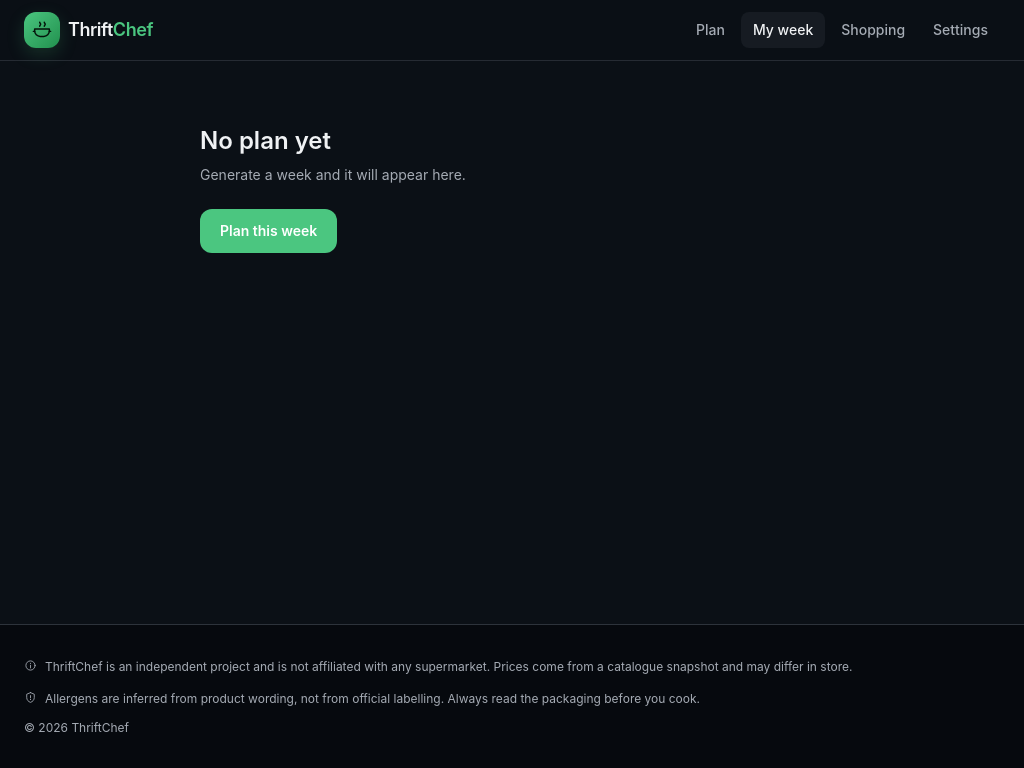
the routed application shell › moves between destinations without a full page load
The width and height of the screenshot is (1024, 768).
Click the link "Settings": (961, 30) [933,21,988,38]
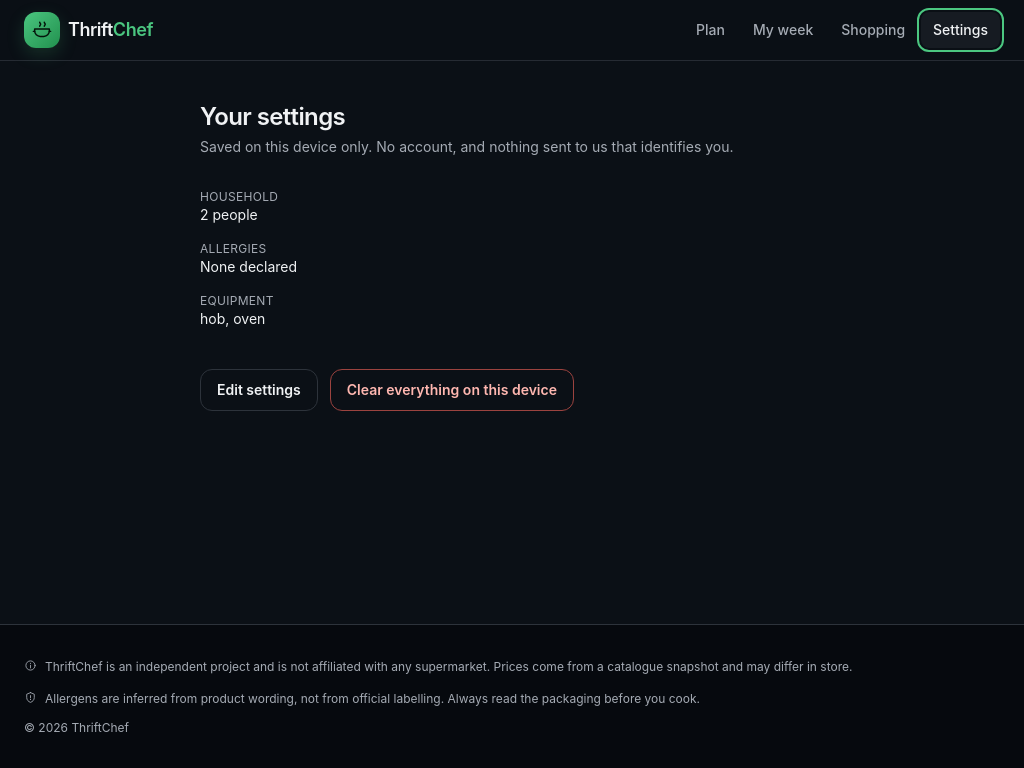
Now the heading "Your settings" is shown, box [200,102,345,131]
